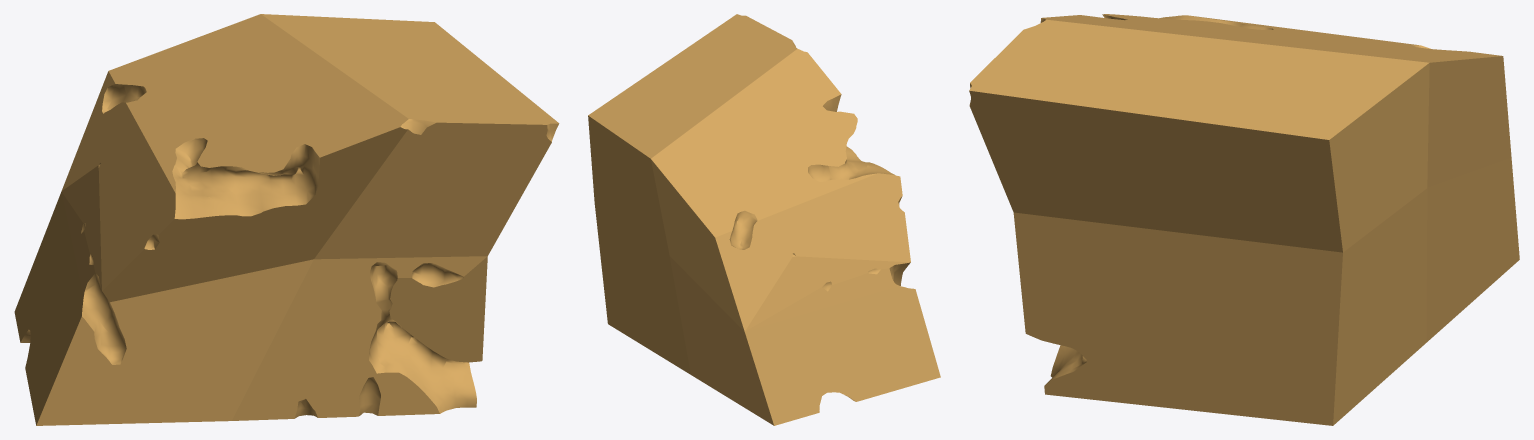
Rendered from Boulder_1.glb.
3 views of the same model, side by side, from view 1: azimuth 30°, elevation 25°; view 2: azimuth 150°, elevation 25°; view 3: azimuth 270°, elevation 25° (orthographic). The views are drawn at different scales.
Visible parts, largest first — view 1: Boulder_1; view 2: Boulder_1; view 3: Boulder_1.
Part boxes in pixels (bbox=[...]): Boulder_1: bbox=[14, 14, 559, 425]; Boulder_1: bbox=[588, 14, 940, 425]; Boulder_1: bbox=[969, 14, 1519, 425].
Bounding box in the file's own units: 12.45 × 8.32 × 12.27.
